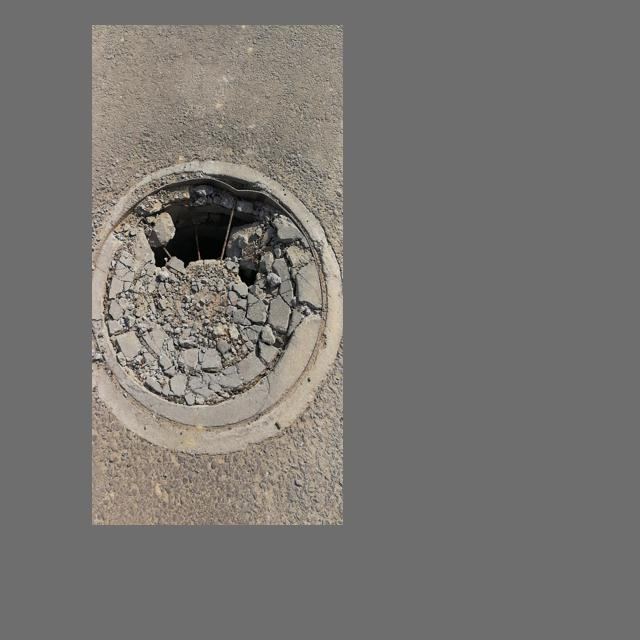broke: (92, 162, 343, 453)
